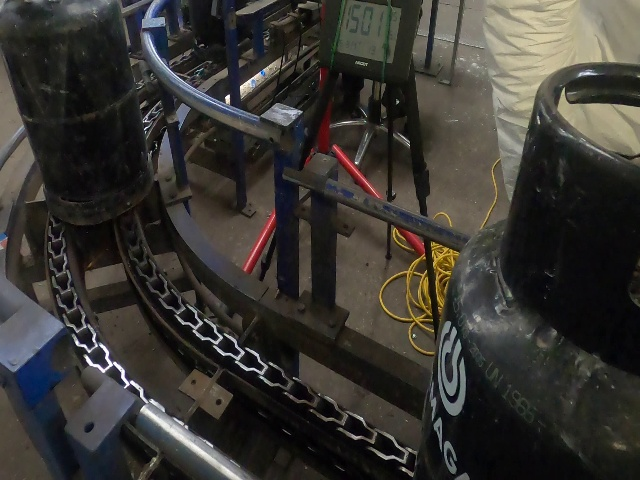gas_bottle: (0, 0, 632, 479)
